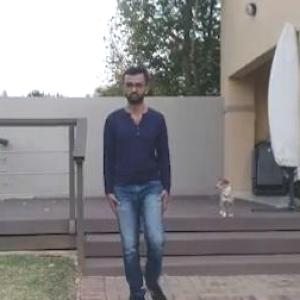follow: (102, 59, 176, 299)
